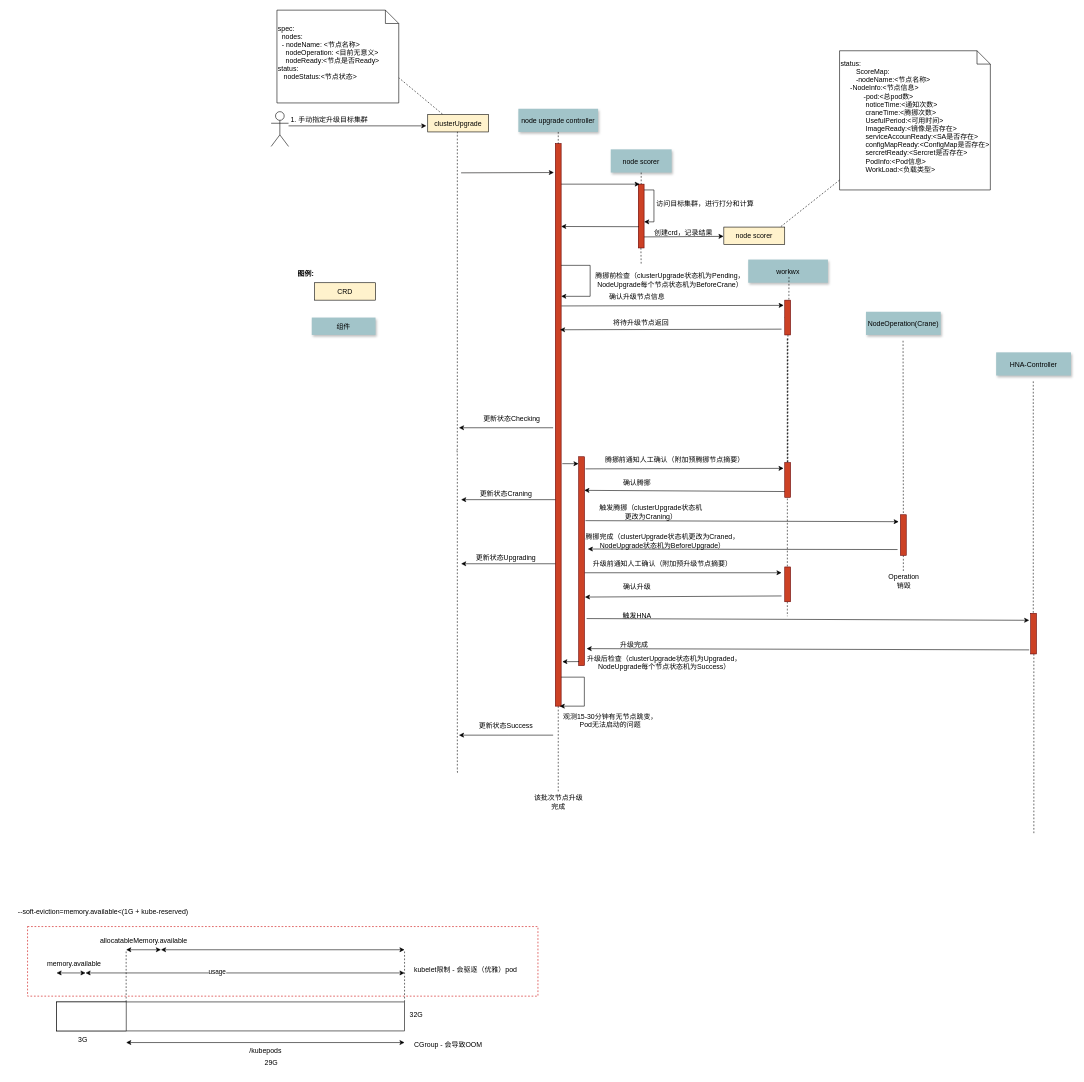
Image size: 1084x1082. Some labels were removed from this diagram. The shapes that lost their labels are listed below. From the top down, each one's centre as x and y in pixels, then its label:
At point 280,128: "Actor".
At point 91,1016: "kube-reserved + system-reserved".
